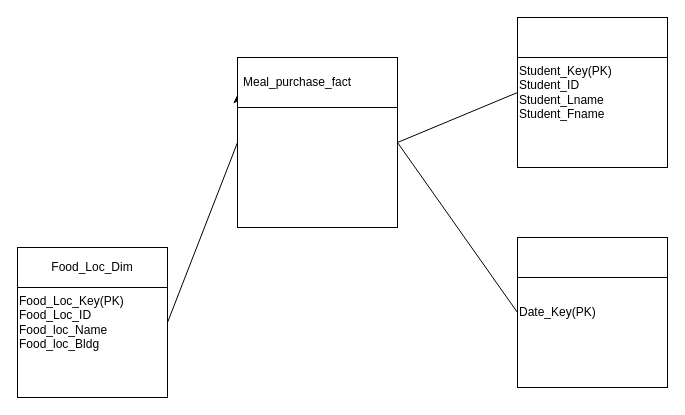
Some shapes in this 685 by 415 pixel diagram are drawn without their labels. The shapes that lost their labels are listed below. From the top down, each one's box as (x1, y1, x2, y2) in pixels, then its label:
(516, 16, 668, 58): Student_Dim
(236, 56, 398, 228): Student_Key(PK, FK) Date_Key(PK, FK) Food_Loc_Key(PK, FK) Amt_Purchased
(516, 236, 668, 278): Date Dim
